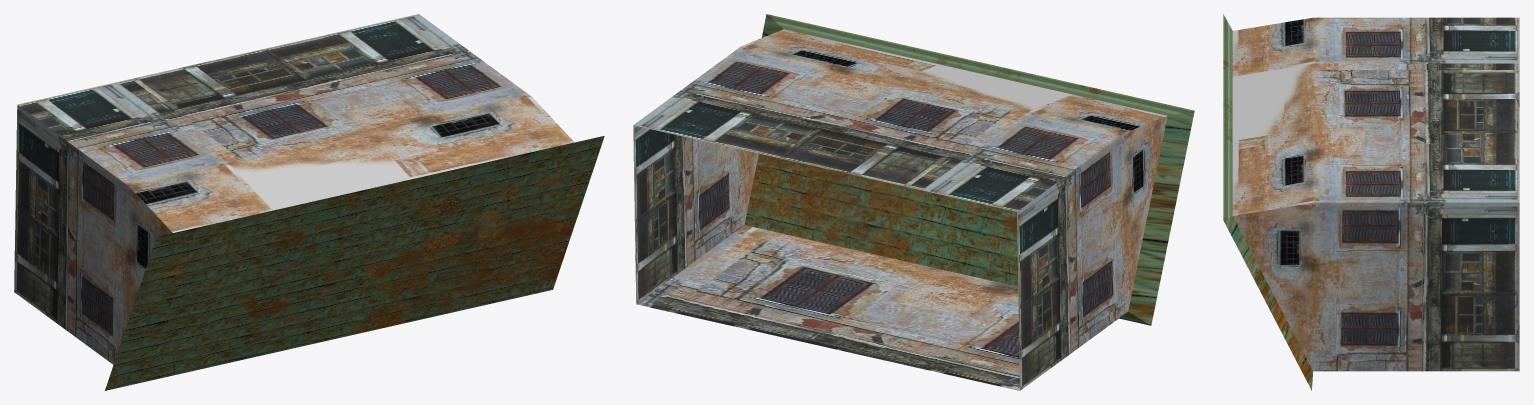
The model's file is houseduchamp13_wtf.obj.
3 views of the same model, side by side, from view 1: azimuth 30°, elevation 25°; view 2: azimuth 150°, elevation 25°; view 3: azimuth 270°, elevation 25° (orthographic). The views are drawn at different scales.
Parts seen in each view (by area): view 1: group2; view 2: group2; view 3: group2.
Part boxes in pixels (x1=…): group2: x1=14, y1=14, x2=604, y2=390; group2: x1=633, y1=14, x2=1194, y2=390; group2: x1=1223, y1=14, x2=1519, y2=390.
Bounding box in the file's own units: 660 × 286 × 412.
